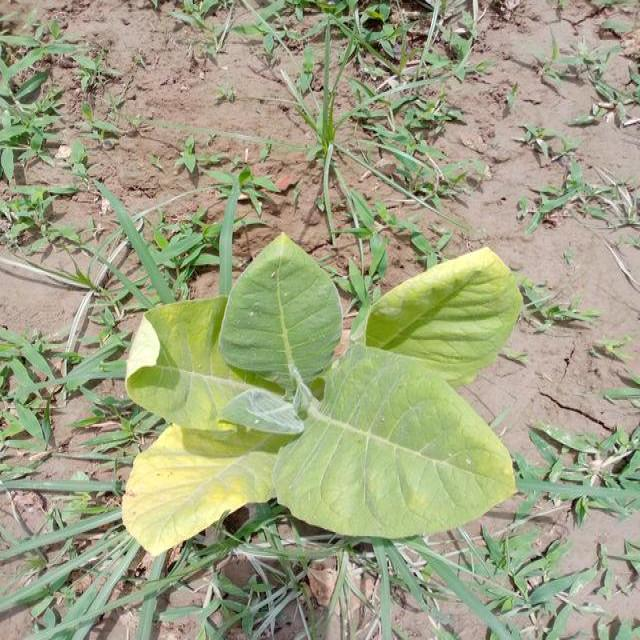crop: (112, 239, 526, 552)
